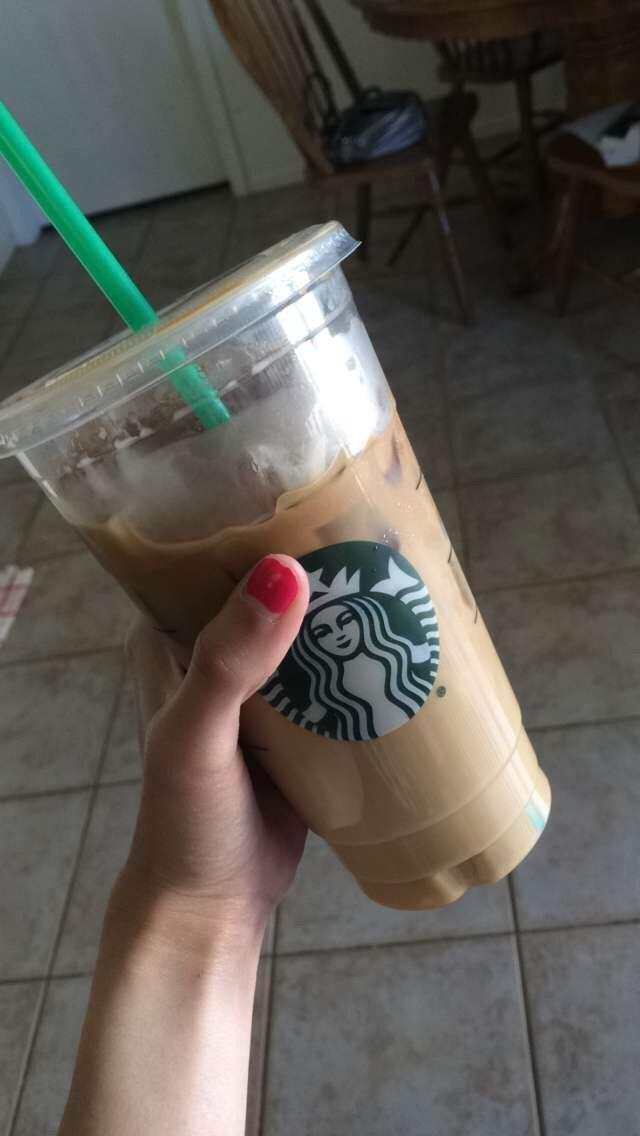cup-disposable: (4, 219, 550, 910)
